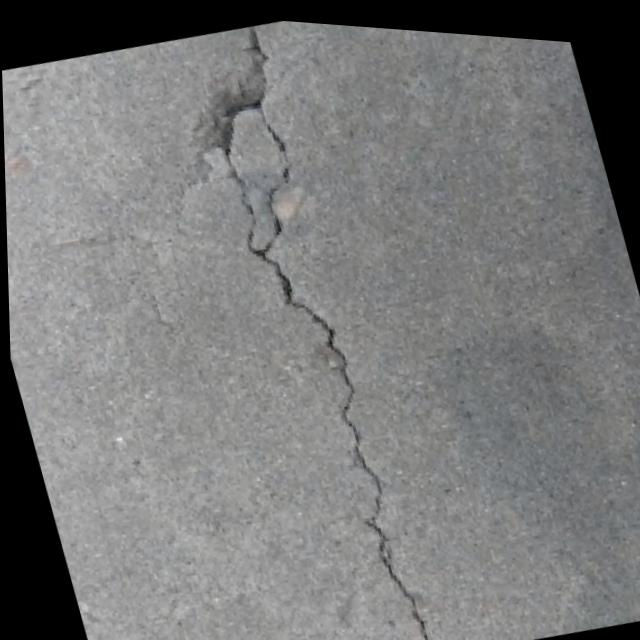Crack: (155, 9, 478, 640)
